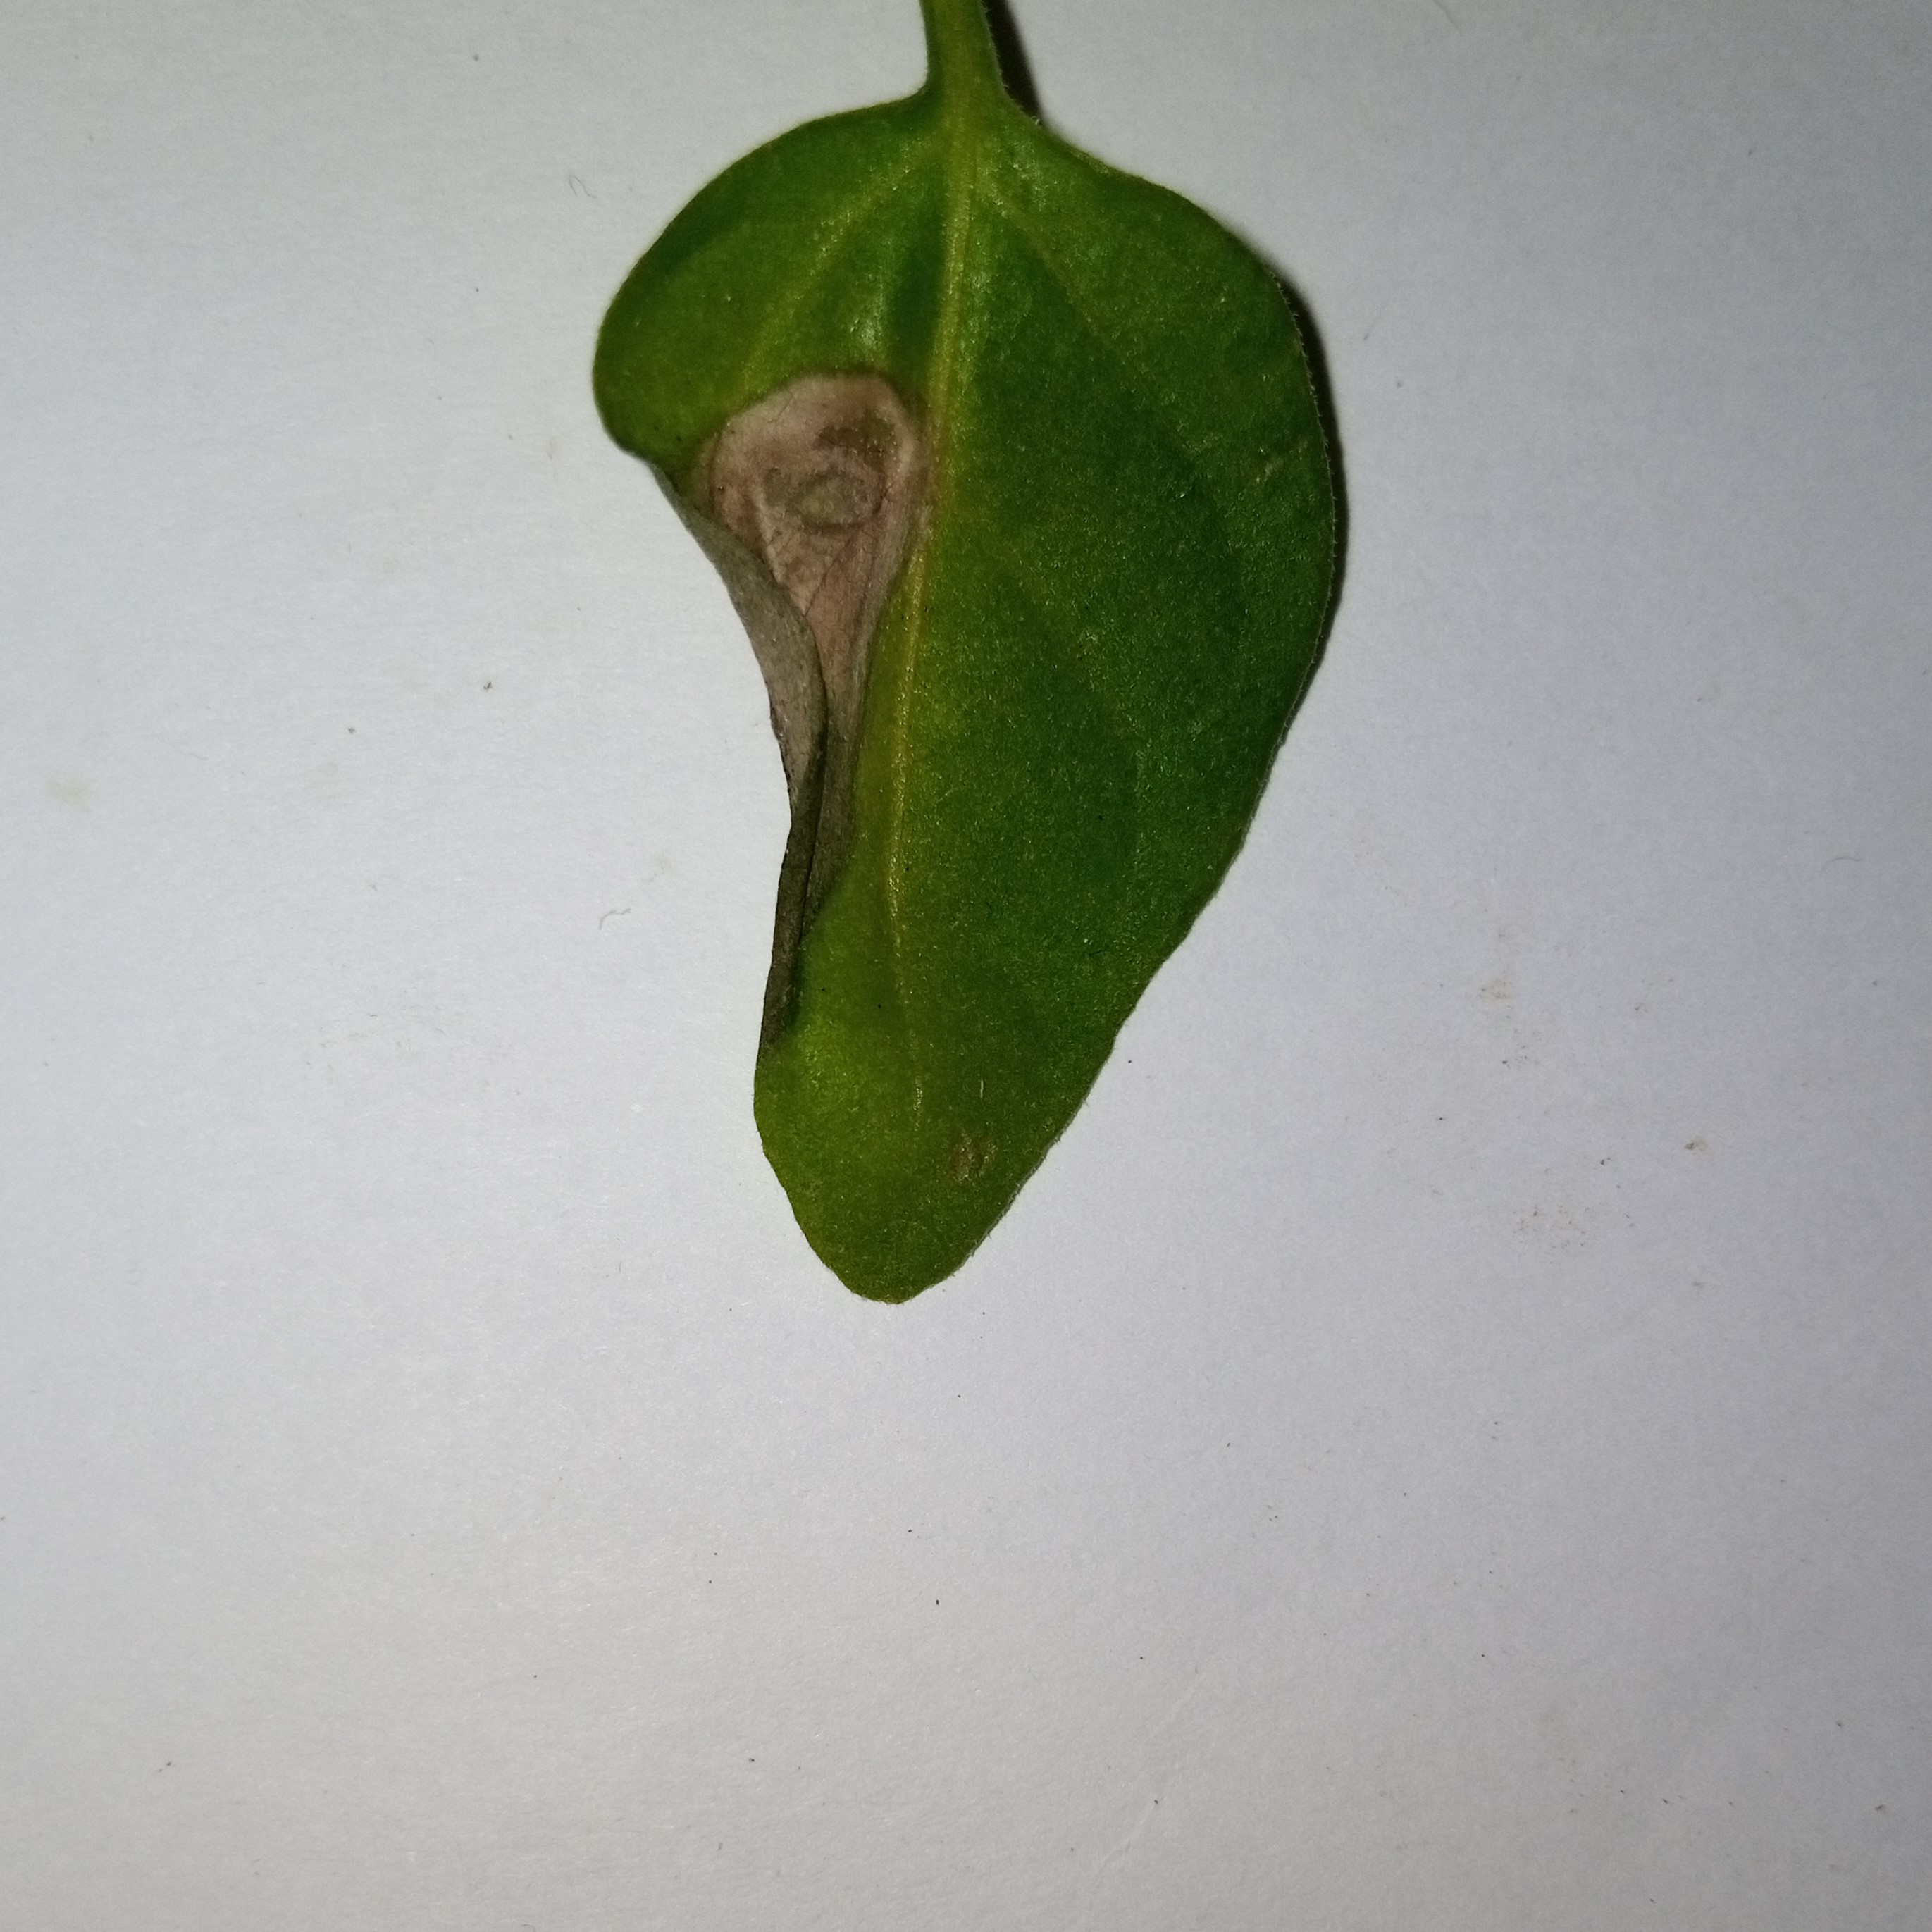Leaf: (495, 64, 1476, 1523)
